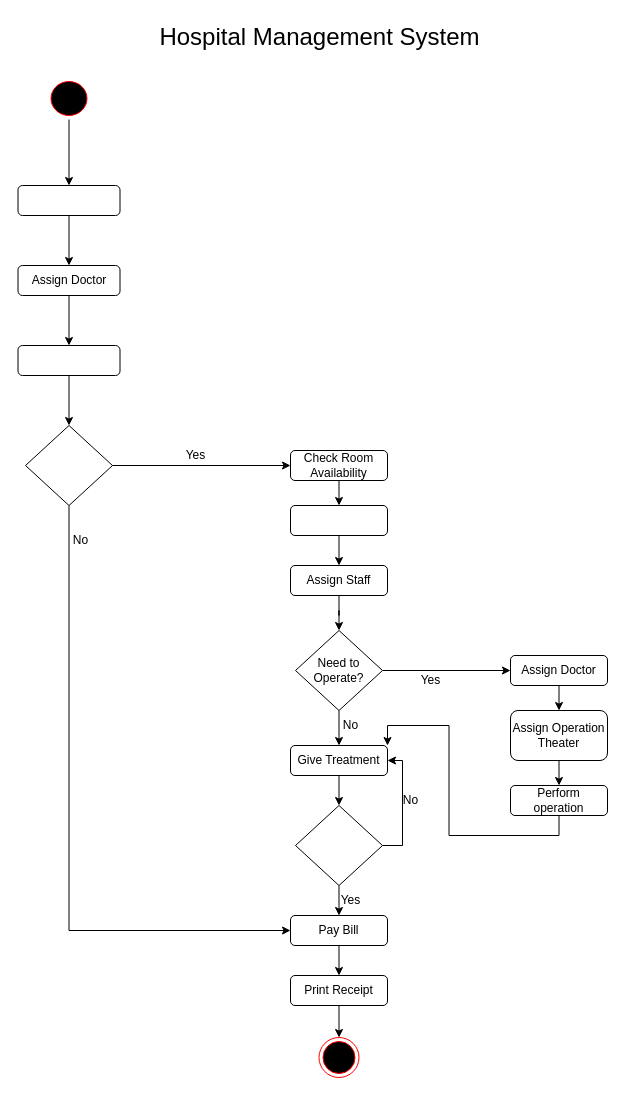
Some shapes in this 625 by 1095 pixel diagram are drawn without their labels. Each missing label, with the box of its shape:
Allocate Room: (290, 504, 388, 536)
Is to discharge?: (294, 804, 382, 886)
Need to admit?: (24, 424, 112, 506)
Registration: (17, 184, 120, 216)
Suggest Treatment: (17, 344, 120, 376)
